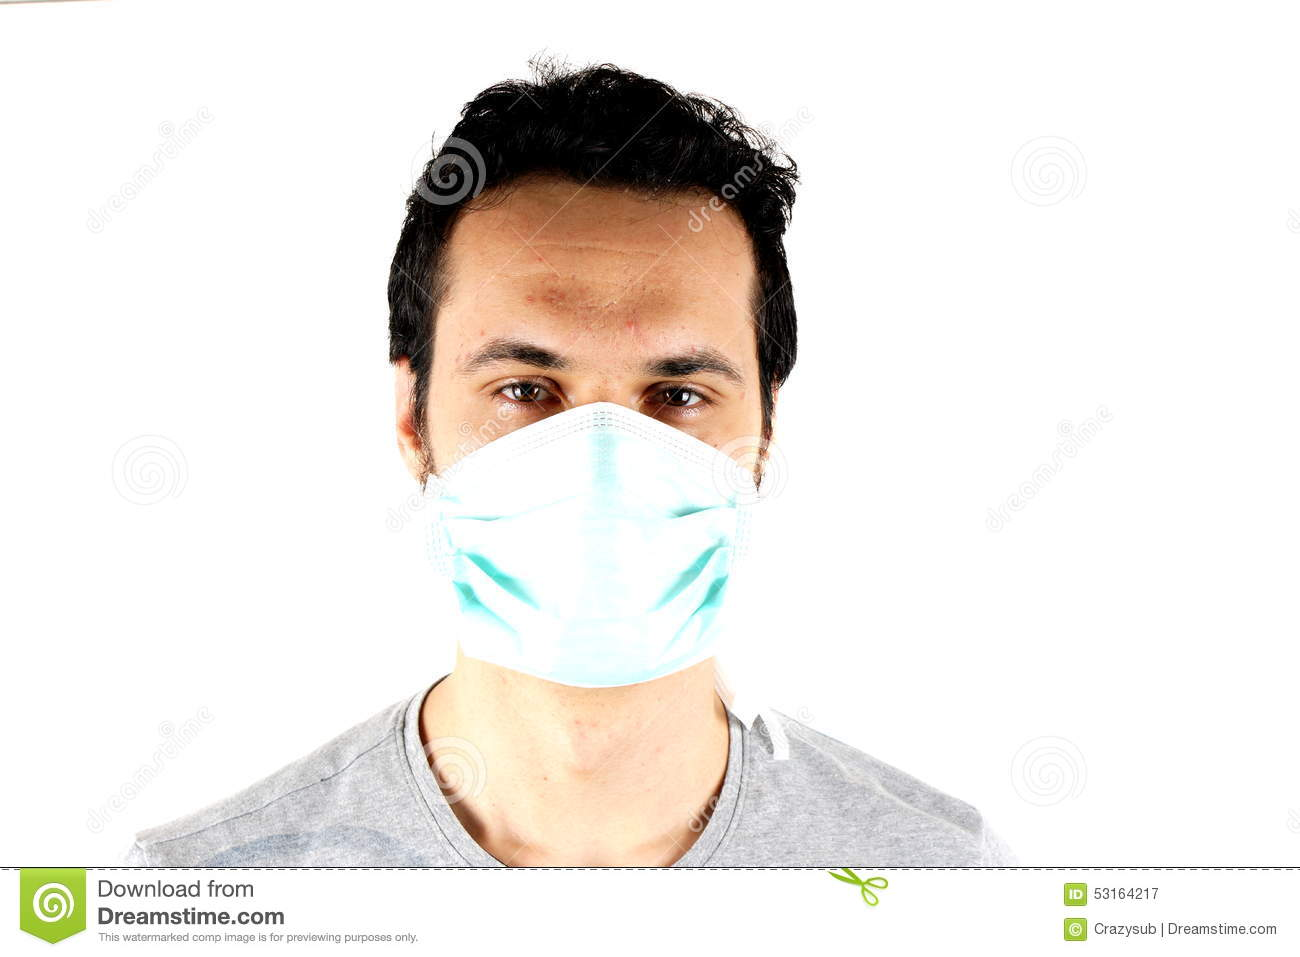mask: (417, 432, 764, 680)
